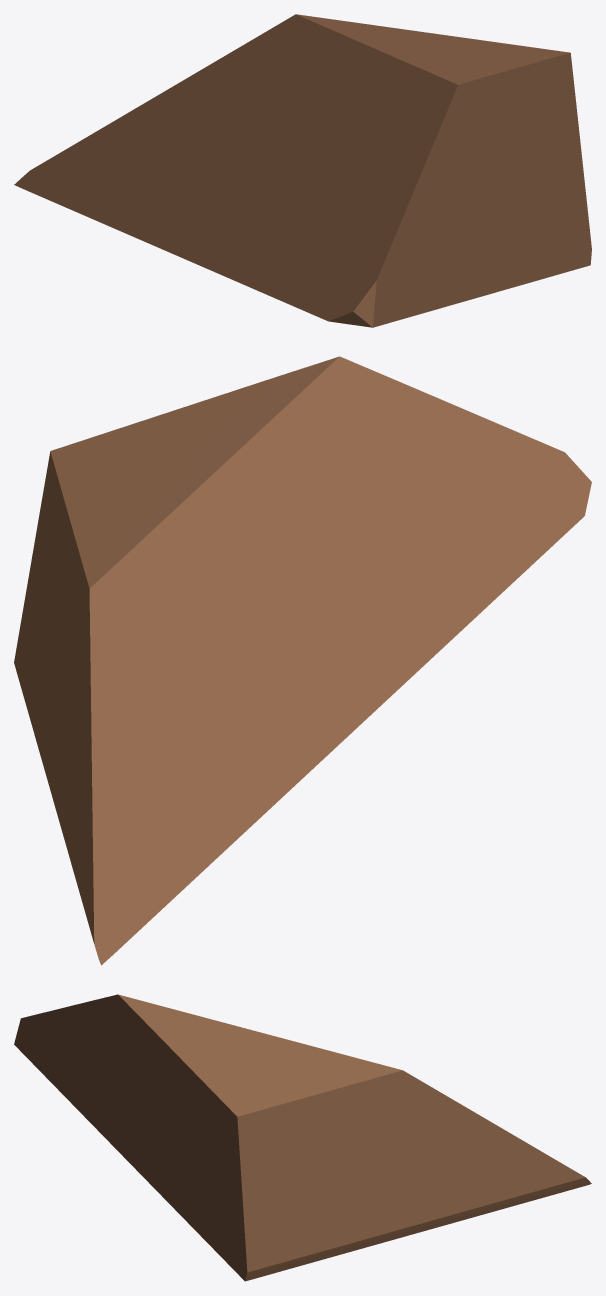
The model's file is WoodCellCube_003_cell_007.fbx.
3 views of the same model, one above another, from view 1: azimuth 30°, elevation 25°; view 2: azimuth 150°, elevation 25°; view 3: azimuth 270°, elevation 25° (orthographic). The views are drawn at different scales.
Parts seen in each view (by area): view 1: WoodCellCube_003_cell_007; view 2: WoodCellCube_003_cell_007; view 3: WoodCellCube_003_cell_007.
Part boxes in pixels (x1=…): WoodCellCube_003_cell_007: x1=14, y1=14, x2=591, y2=327; WoodCellCube_003_cell_007: x1=14, y1=356, x2=591, y2=965; WoodCellCube_003_cell_007: x1=14, y1=994, x2=591, y2=1281.
Bounding box in the file's own units: 0.8244 × 0.3547 × 0.4737.
Materials: 1 (1 with a texture image).
